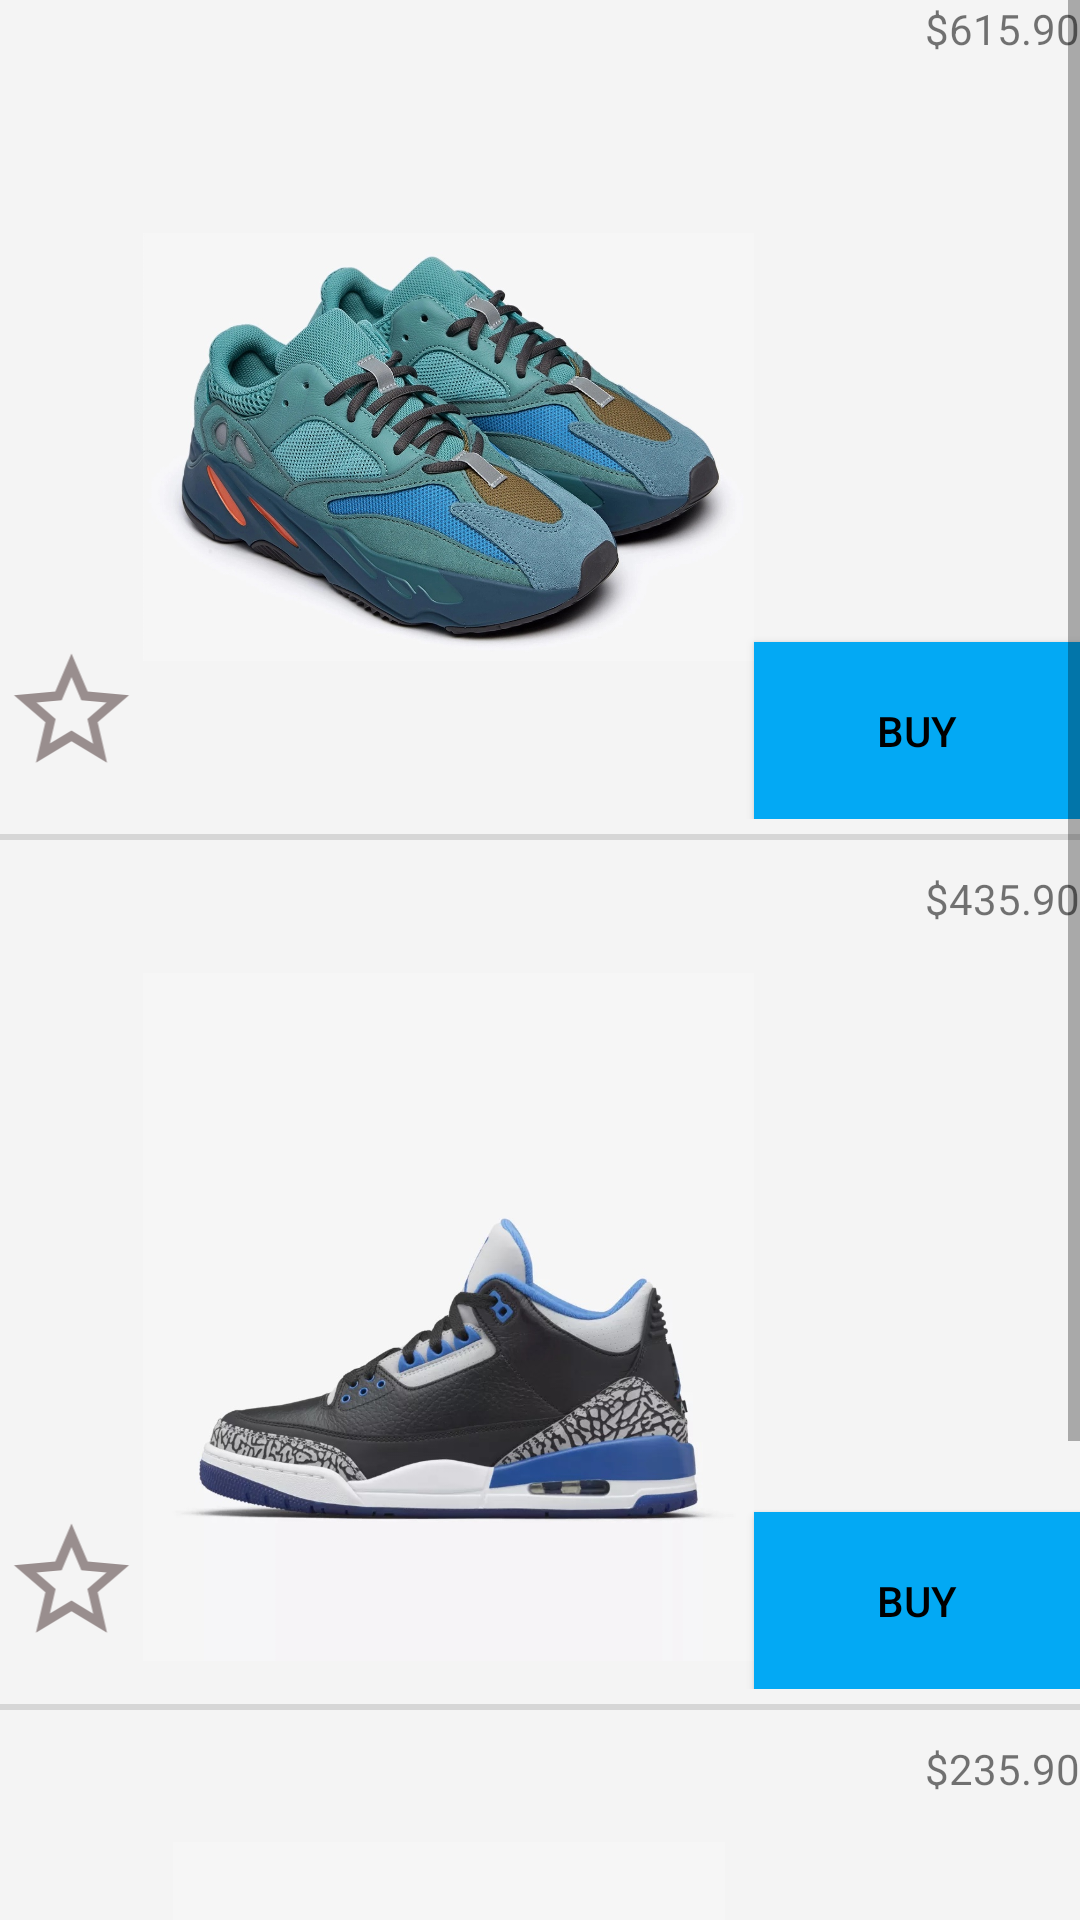

Where to tap for icons on this 1080 x 1920 app screen, as [x,y]:
star border: [71,708], [71,1578]
